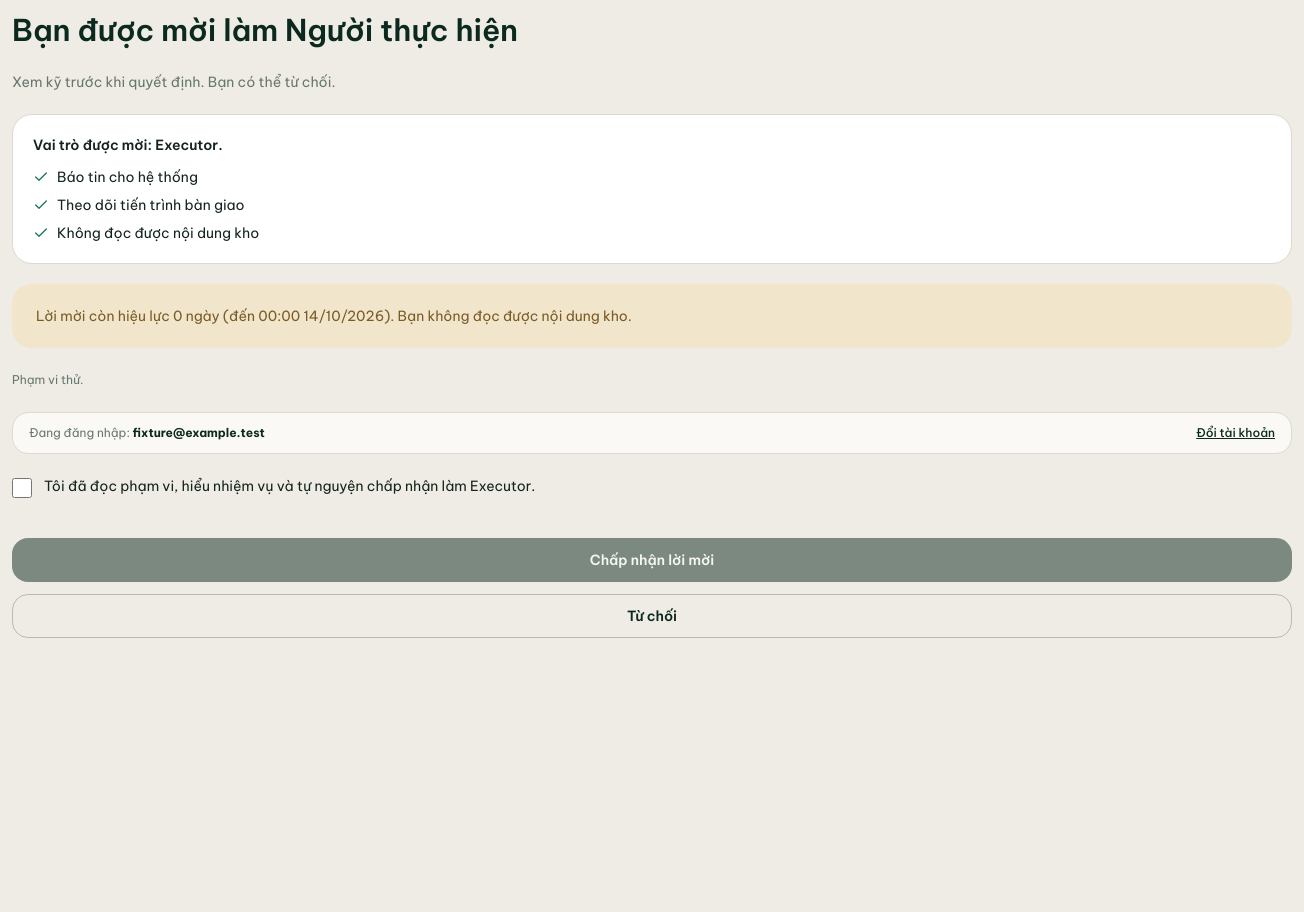
Test: keeps inspect separate from acceptance, sends token in body and never caches it
Expected: the button "Chấp nhận lời mời" is disabled, [12,538,1292,582]
Click the checkbox.
click(22, 488)  # box [12,478,32,498]
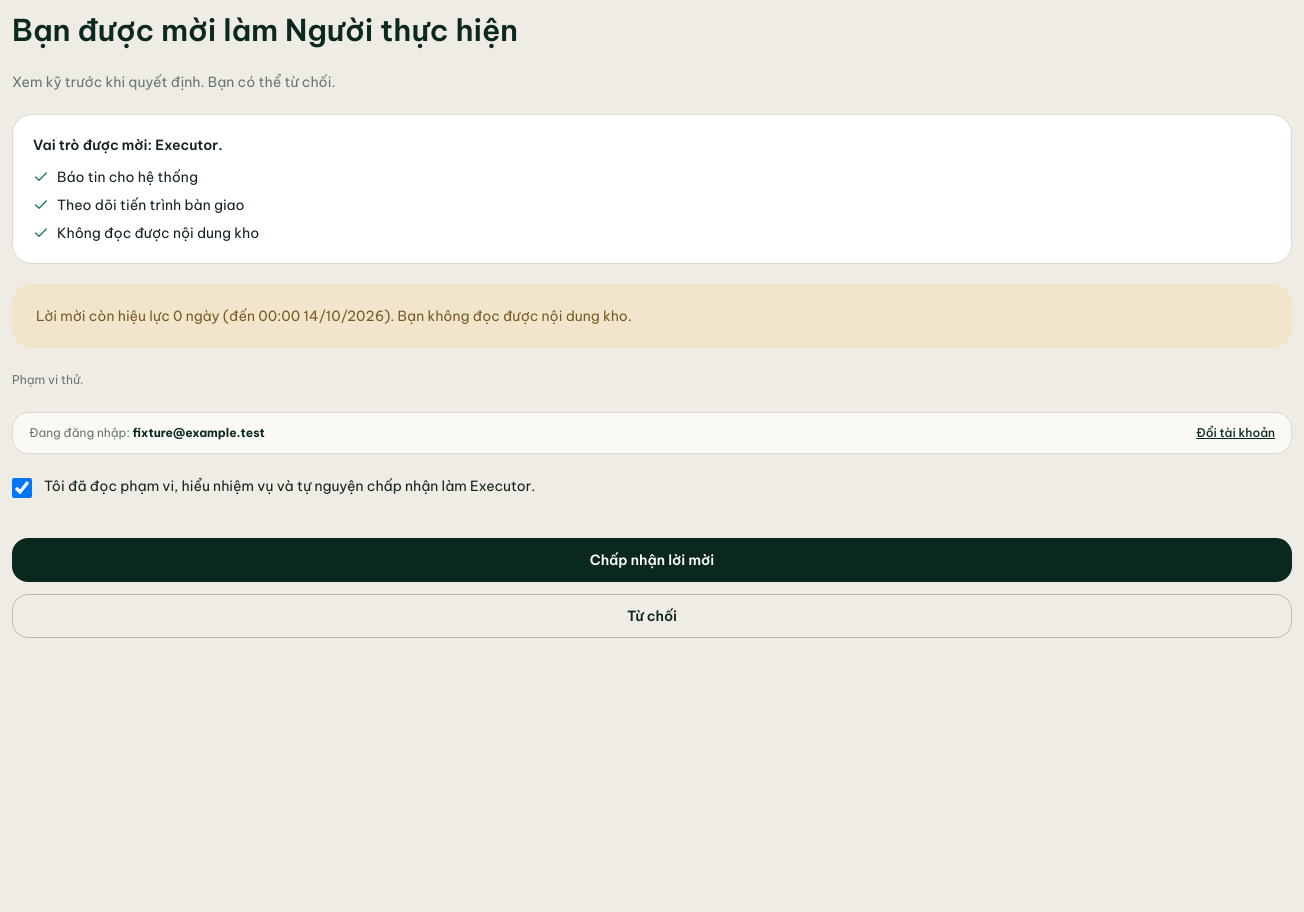
Click the button "Chấp nhận lời mời".
click(652, 560)  # box [12,538,1292,582]
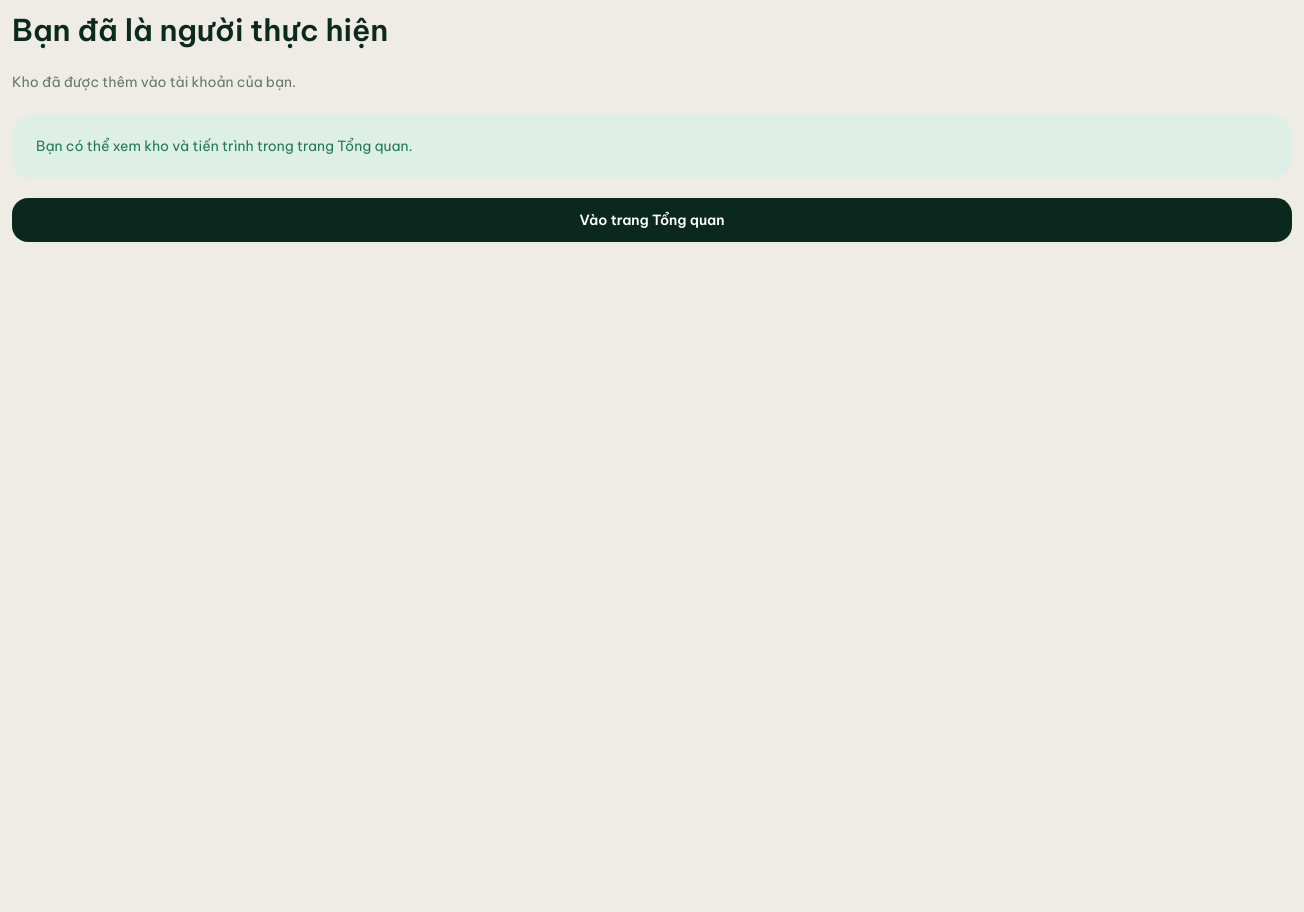
Expected: the heading "Bạn đã là người thực hiện" is shown, [12,11,388,49]
